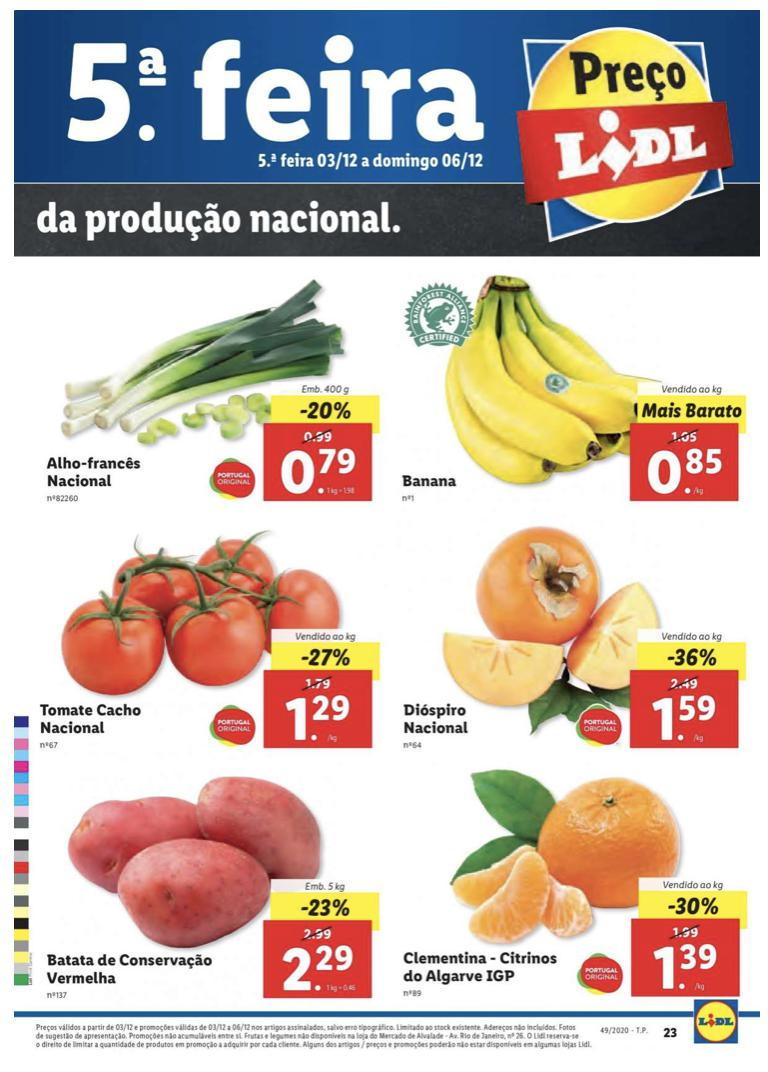name: (45, 947, 215, 988), (404, 949, 559, 985), (37, 701, 149, 739), (45, 455, 145, 493), (404, 700, 473, 735), (401, 473, 467, 491)
price: (641, 443, 729, 499), (279, 445, 363, 499), (280, 944, 356, 997), (281, 691, 353, 745), (651, 943, 721, 996), (651, 691, 716, 747)
product: (397, 271, 749, 525), (41, 756, 388, 1005), (401, 761, 740, 1008), (36, 276, 380, 519), (399, 525, 749, 761), (32, 529, 388, 756)
promotion: (665, 893, 724, 919), (299, 895, 353, 921), (665, 644, 721, 668), (301, 645, 353, 669), (301, 400, 355, 423)
